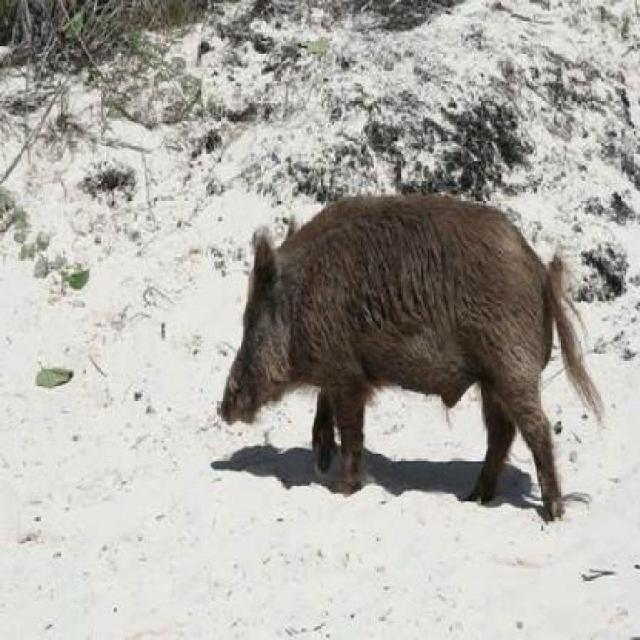Boar: (171, 184, 612, 518)
